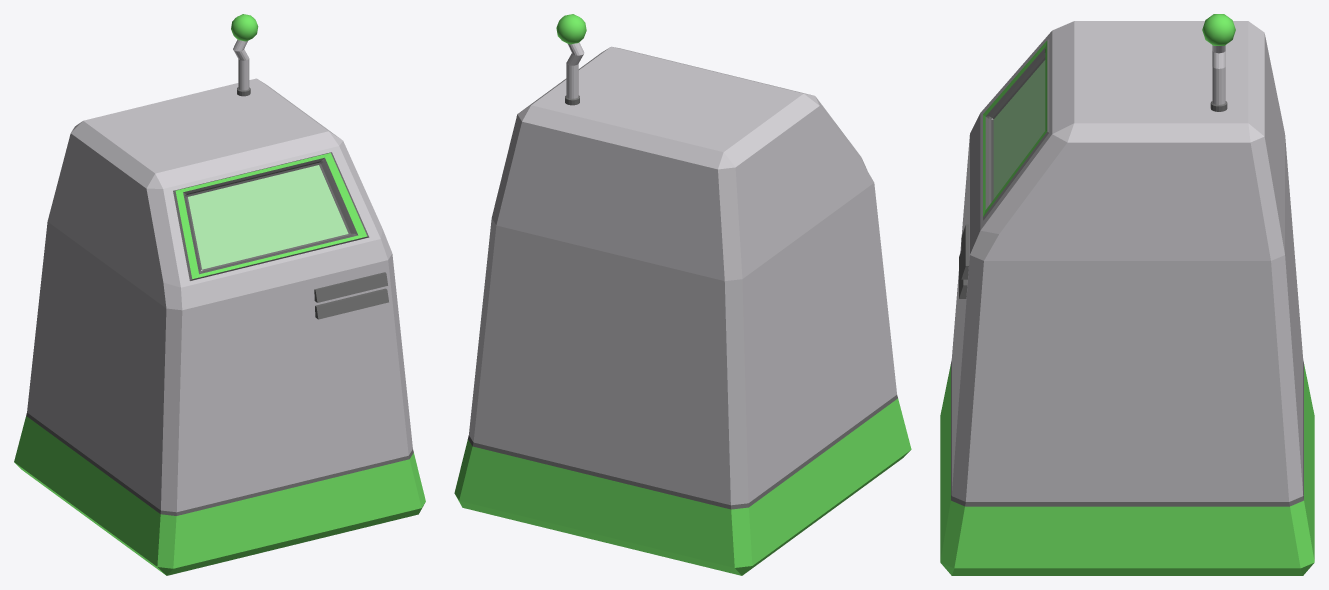
Rendered from botCook.fbx.
3 views of the same model, side by side, from view 1: azimuth 30°, elevation 25°; view 2: azimuth 150°, elevation 25°; view 3: azimuth 270°, elevation 25° (orthographic). The views are drawn at different scales.
Visible parts, largest first — view 1: Bot - Cook; view 2: Bot - Cook; view 3: Bot - Cook.
Boxes of the visible parts, x1=… form: Bot - Cook: x1=14, y1=14, x2=425, y2=575; Bot - Cook: x1=454, y1=14, x2=911, y2=575; Bot - Cook: x1=940, y1=14, x2=1314, y2=575.
Size of the model in its own units: 82.85 by 82.85 by 128.
